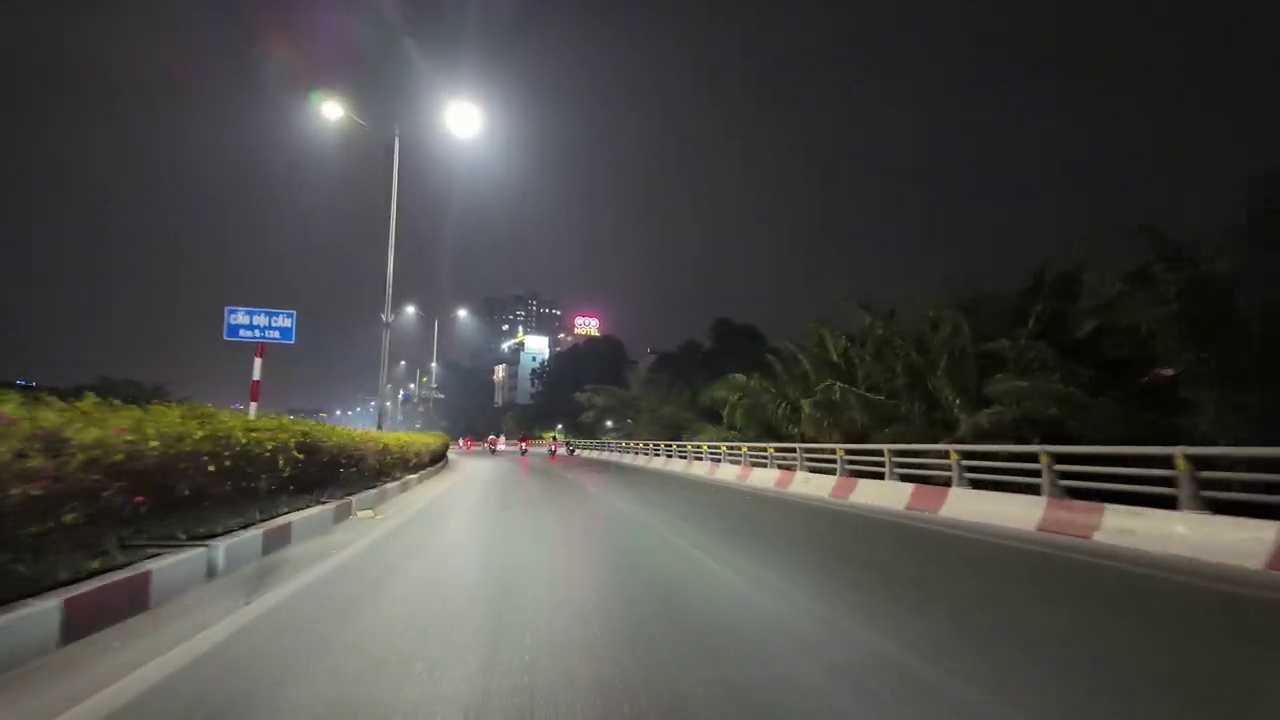acesa: (443, 97, 483, 139), (313, 93, 353, 130), (394, 299, 420, 326), (452, 304, 476, 329)
